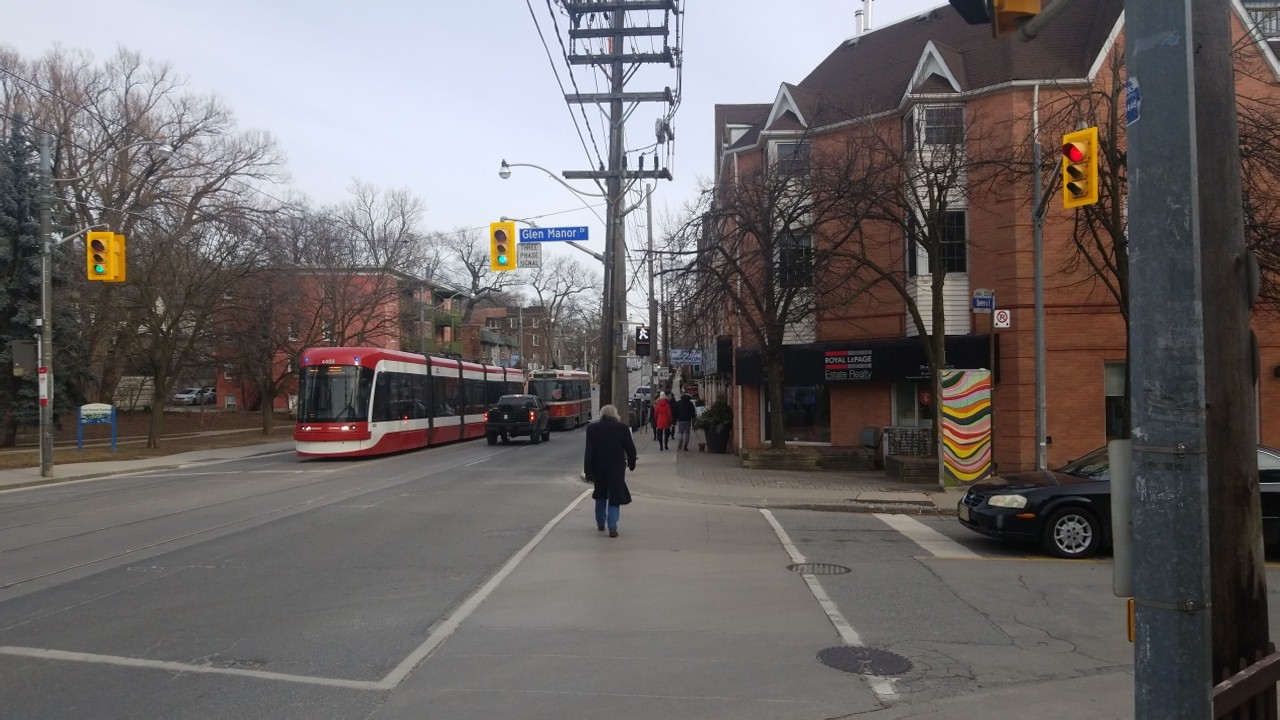light: (631, 321, 655, 363)
